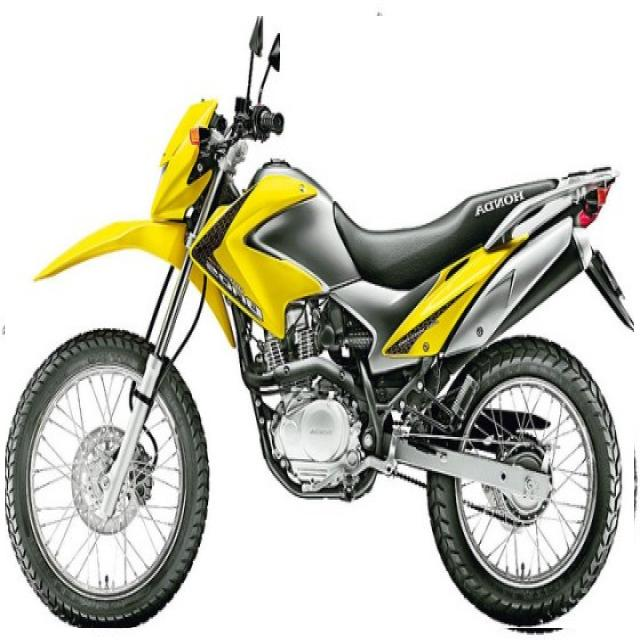motorcycle: (6, 16, 634, 628)
